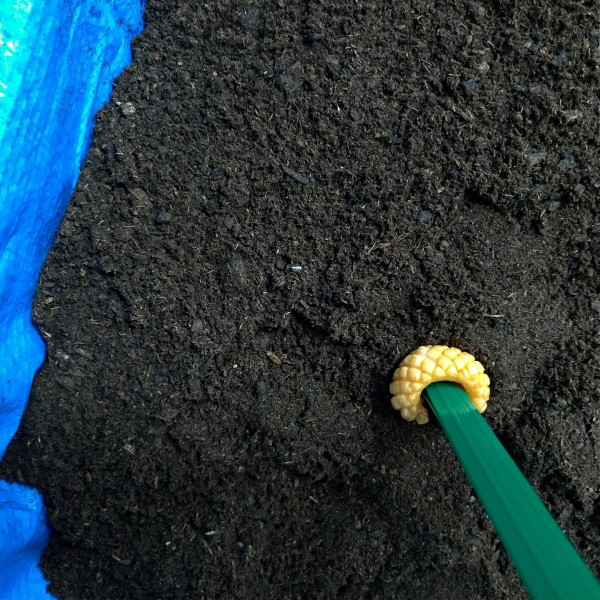eggs: (380, 338, 495, 432)
